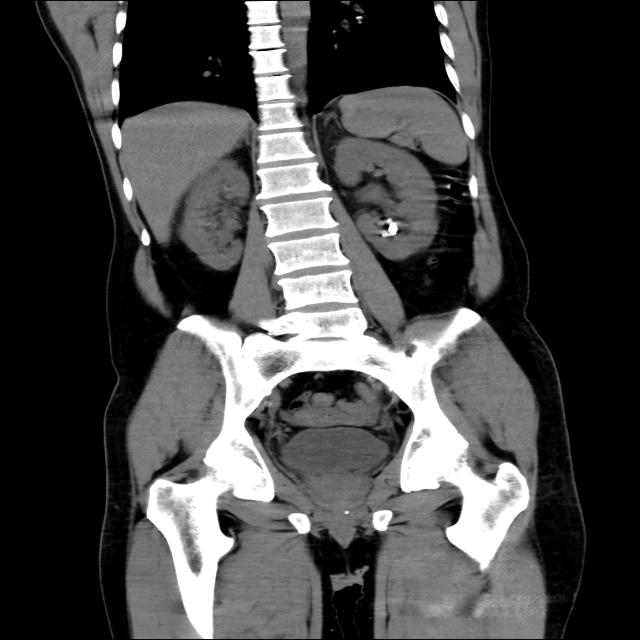kidneystone: (384, 221, 398, 236)
